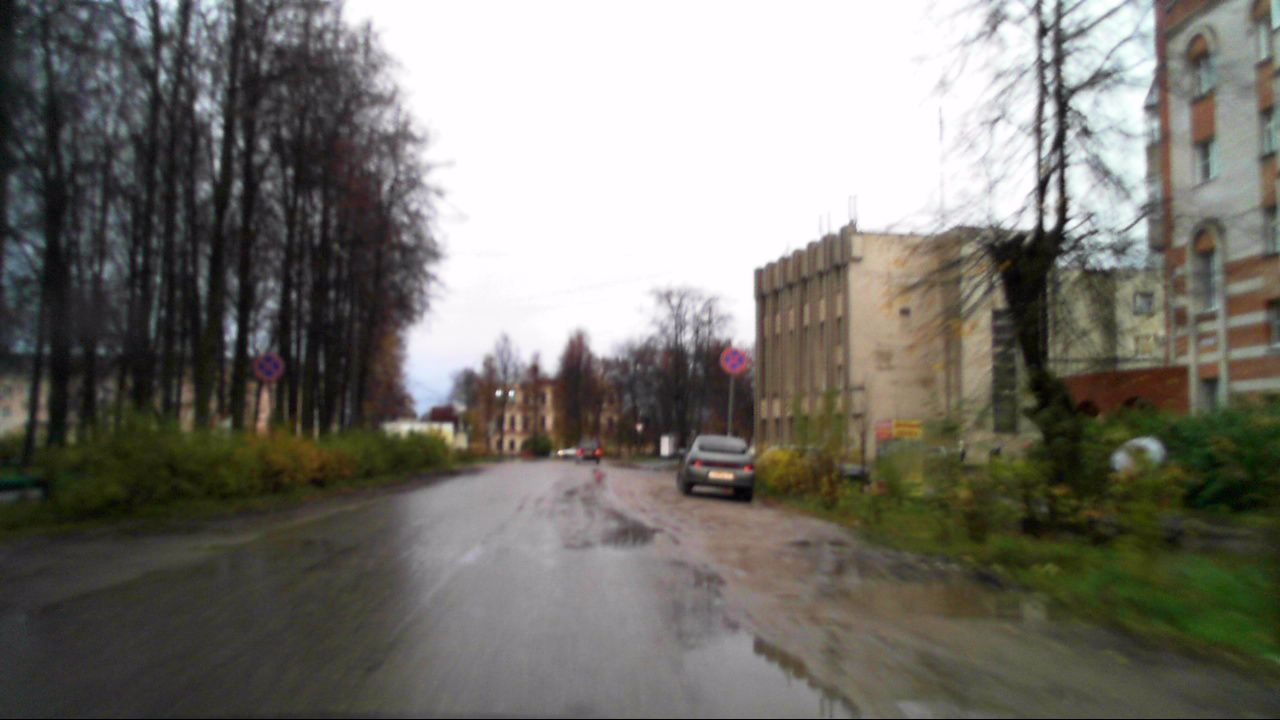No Parking: (720, 347, 747, 374)
